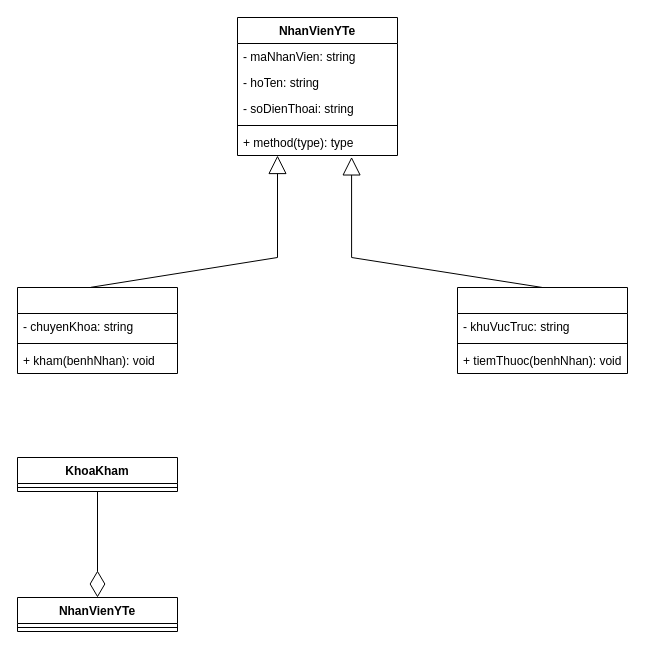
Some shapes in this 645 by 649 pixel diagram are drawn without their labels. Here are the shapes that lost their labels. From the top down, the box of each, then its label:
(16, 286, 178, 374): BacSi
(456, 286, 628, 374): YTa
